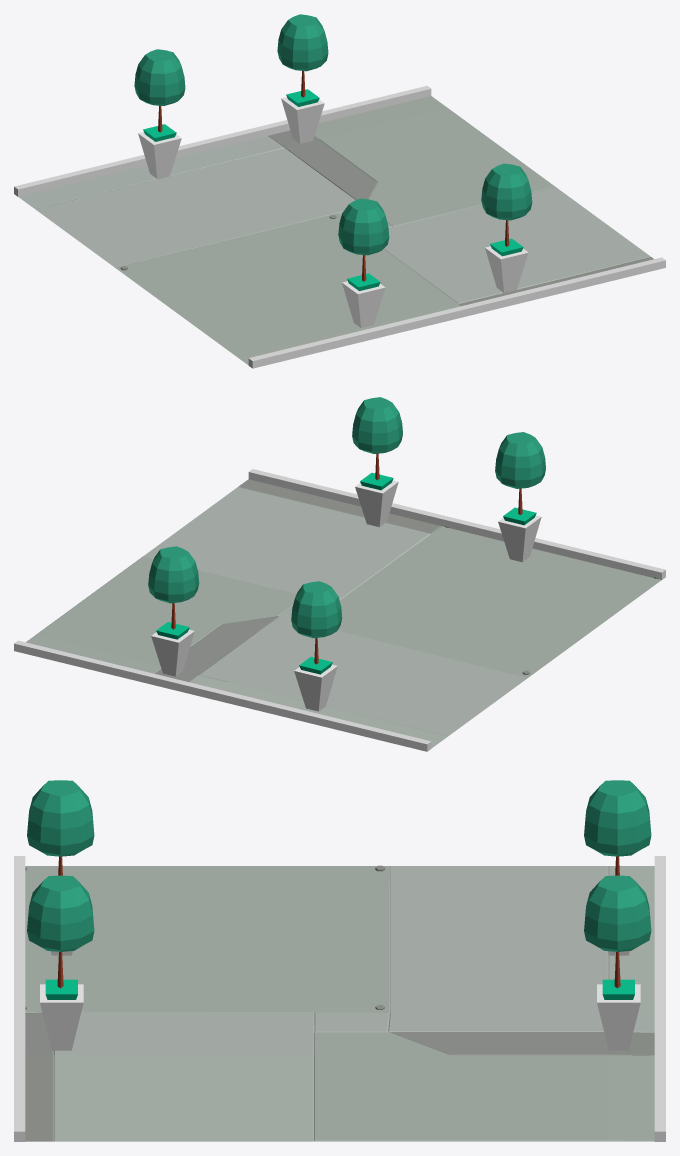
3 views of the same model, one above another, from view 1: azimuth 30°, elevation 25°; view 2: azimuth 150°, elevation 25°; view 3: azimuth 270°, elevation 25° (orthographic). The views are drawn at different scales.
Visible parts, largest first — view 1: Scifi_Panel_04_Plaza014_group4.020_Scifi_Panel_04_Plaza014_g, Cube.921_Cube.1046, Cube.922_Cube.1047, base_singlePot03.017_base_singlePot03.019, base_singlePot03.016_base_singlePot03.018, base_singlePot03.014_base_singlePot03.016, base_singlePot03.015_base_singlePot03.017; view 2: Scifi_Panel_04_Plaza014_group4.020_Scifi_Panel_04_Plaza014_g, Cube.922_Cube.1047, Cube.921_Cube.1046, base_singlePot03.015_base_singlePot03.017, base_singlePot03.014_base_singlePot03.016, base_singlePot03.017_base_singlePot03.019, base_singlePot03.016_base_singlePot03.018; view 3: Scifi_Panel_04_Plaza014_group4.020_Scifi_Panel_04_Plaza014_g, base_singlePot03.016_base_singlePot03.018, base_singlePot03.015_base_singlePot03.017, base_singlePot03.017_base_singlePot03.019, base_singlePot03.014_base_singlePot03.016, Cube.922_Cube.1047, Cube.921_Cube.1046.
Boxes of the visible parts, box(x1,y1,x2,y2) form: Scifi_Panel_04_Plaza014_group4.020_Scifi_Panel_04_Plaza014_g: box(18, 96, 653, 365); Cube.921_Cube.1046: box(248, 257, 665, 368); Cube.922_Cube.1047: box(14, 85, 431, 196); base_singlePot03.017_base_singlePot03.019: box(338, 198, 389, 328); base_singlePot03.016_base_singlePot03.018: box(481, 163, 532, 292); base_singlePot03.014_base_singlePot03.016: box(134, 49, 185, 178); base_singlePot03.015_base_singlePot03.017: box(277, 14, 328, 143); Scifi_Panel_04_Plaza014_group4.020_Scifi_Panel_04_Plaza014_g: box(26, 479, 661, 748); Cube.922_Cube.1047: box(14, 640, 431, 751); Cube.921_Cube.1046: box(248, 469, 665, 579); base_singlePot03.015_base_singlePot03.017: box(148, 546, 199, 676); base_singlePot03.014_base_singlePot03.016: box(291, 581, 342, 711); base_singlePot03.017_base_singlePot03.019: box(495, 432, 545, 562); base_singlePot03.016_base_singlePot03.018: box(352, 397, 402, 527); Scifi_Panel_04_Plaza014_group4.020_Scifi_Panel_04_Plaza014_g: box(25, 865, 654, 1141); base_singlePot03.016_base_singlePot03.018: box(27, 875, 94, 1051); base_singlePot03.015_base_singlePot03.017: box(584, 875, 651, 1050); base_singlePot03.017_base_singlePot03.019: box(27, 780, 94, 955); base_singlePot03.014_base_singlePot03.016: box(584, 780, 651, 955); Cube.922_Cube.1047: box(654, 856, 665, 1141); Cube.921_Cube.1046: box(14, 856, 25, 1141).
Bounding box in the file's own units: 10 × 2.78 × 10.
